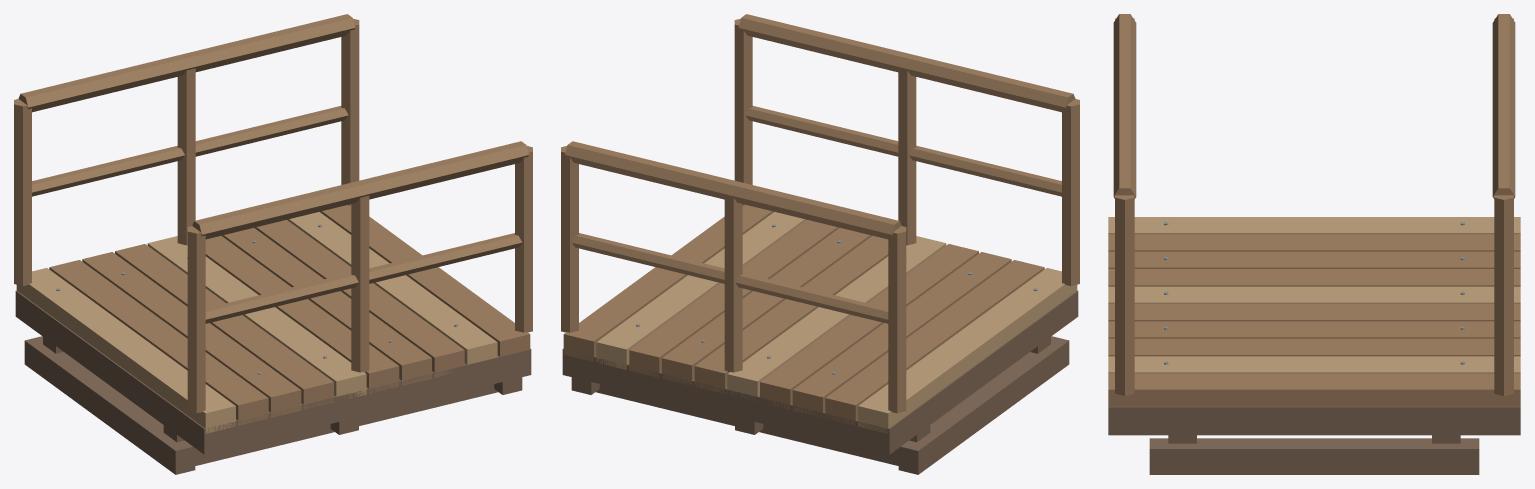
File: Bridge_Rustic_Deck_2m.fbx
The picture shows the model from 3 angles, left to right: view 1: azimuth 30°, elevation 25°; view 2: azimuth 150°, elevation 25°; view 3: azimuth 270°, elevation 25°; orthographic projection. The views are drawn at different scales.
Visible parts, largest first — view 1: Bridge_Rustic_Deck_2m; view 2: Bridge_Rustic_Deck_2m; view 3: Bridge_Rustic_Deck_2m.
Part boxes in pixels (x1,y1,x2,y2): Bridge_Rustic_Deck_2m: [14, 14, 532, 474]; Bridge_Rustic_Deck_2m: [561, 14, 1079, 474]; Bridge_Rustic_Deck_2m: [1108, 14, 1520, 474].
Bounding box in the file's own units: 212 × 153 × 200.
